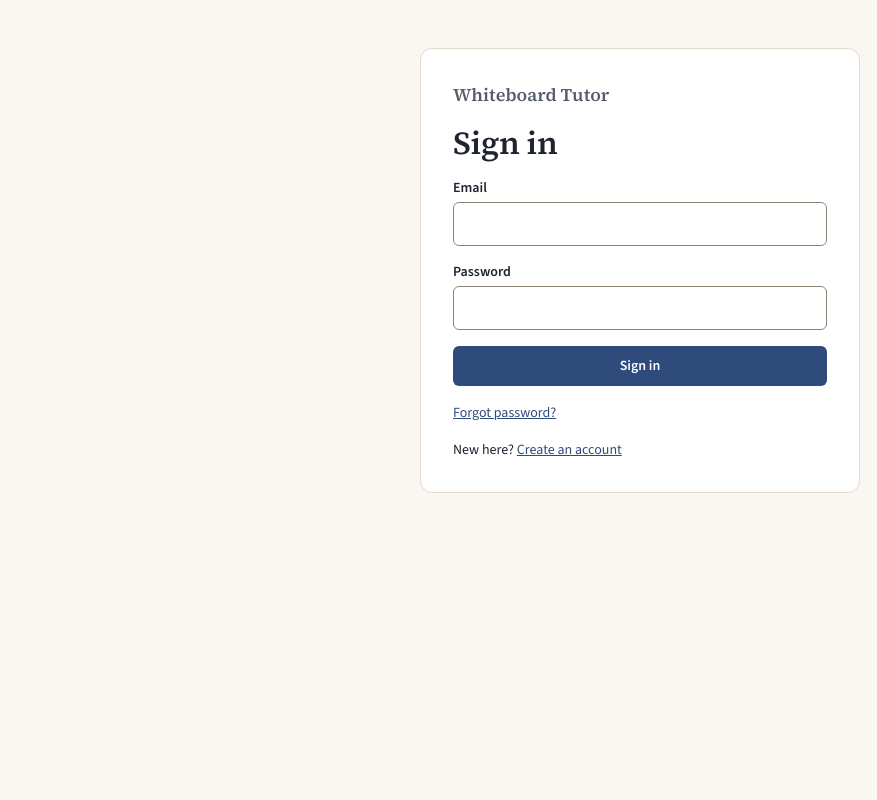
Scenario: session bootstrap and guards › returns to the remembered route after signing in
The width and height of the screenshot is (877, 800).
Type "maya@example.com" into the field labelled "Email".
click(640, 224); type("maya@example.com")  # box 453,202 -> 827,246
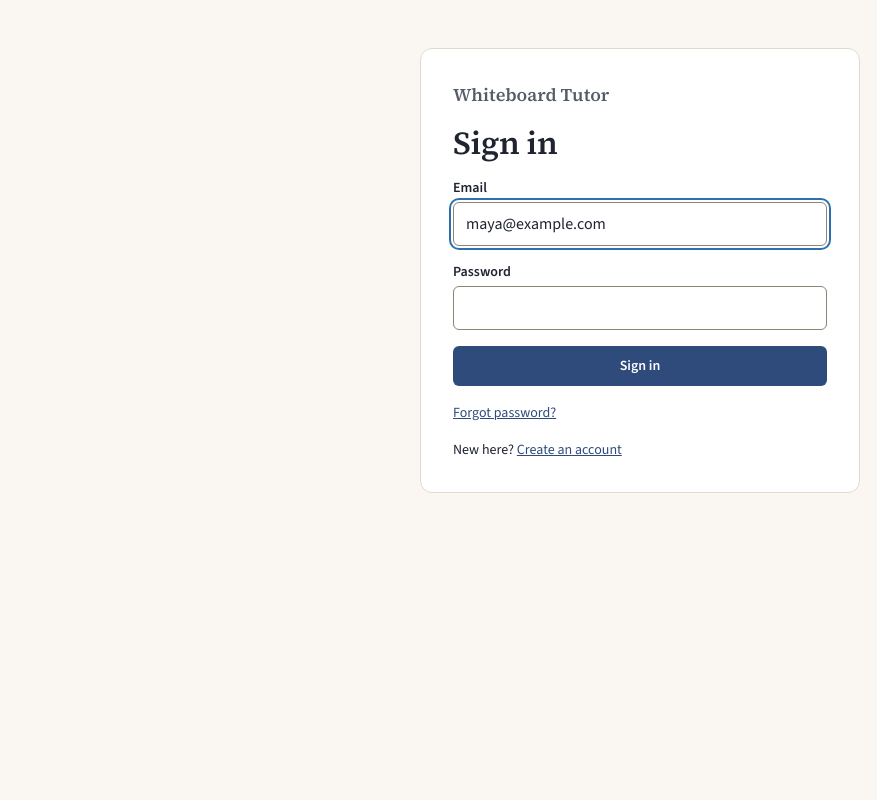
Type "correct horse battery" into the password field labelled "Password".
click(640, 308); type("correct horse battery")  # box 453,286 -> 827,330
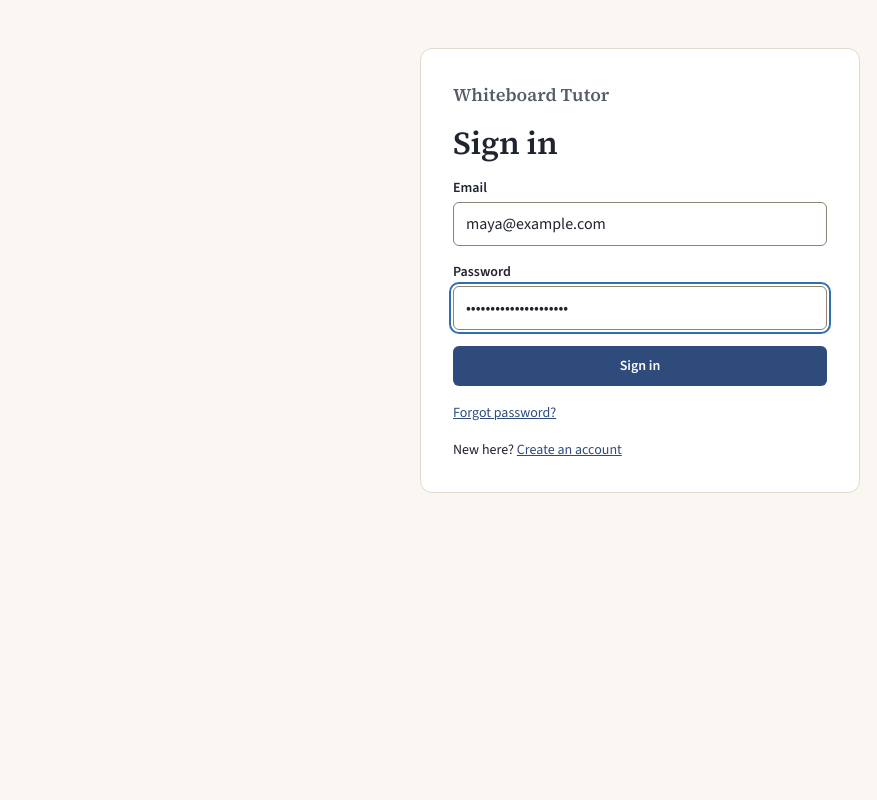
Click the button "Sign in".
click(640, 366)  # box 453,346 -> 827,386
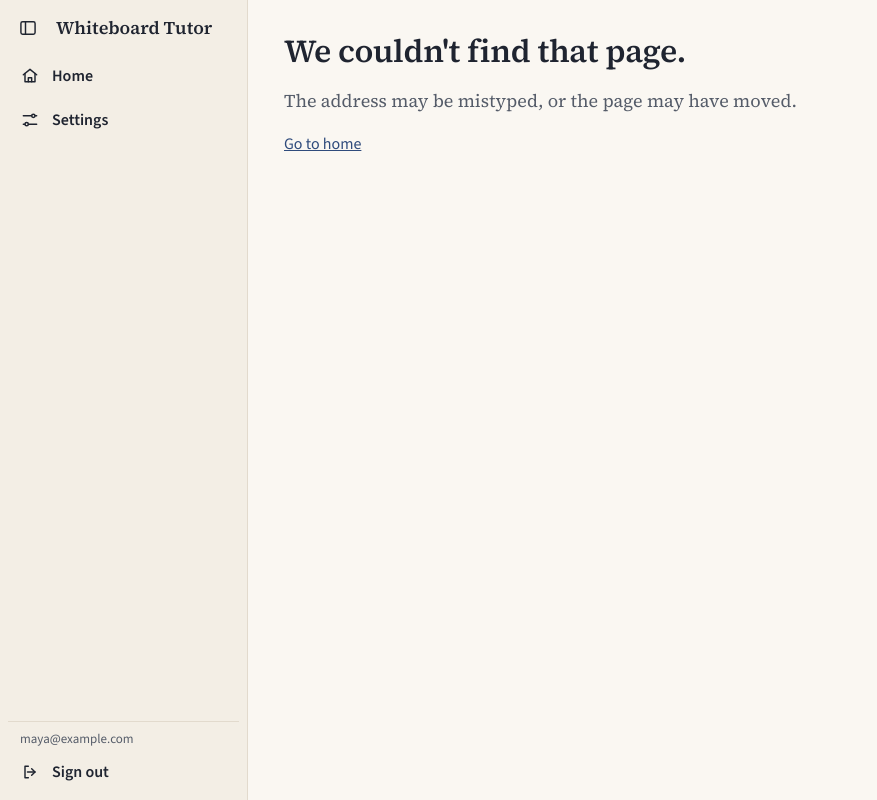
Check: the heading "We couldn't find that page." is shown, box 284,29 -> 686,73
